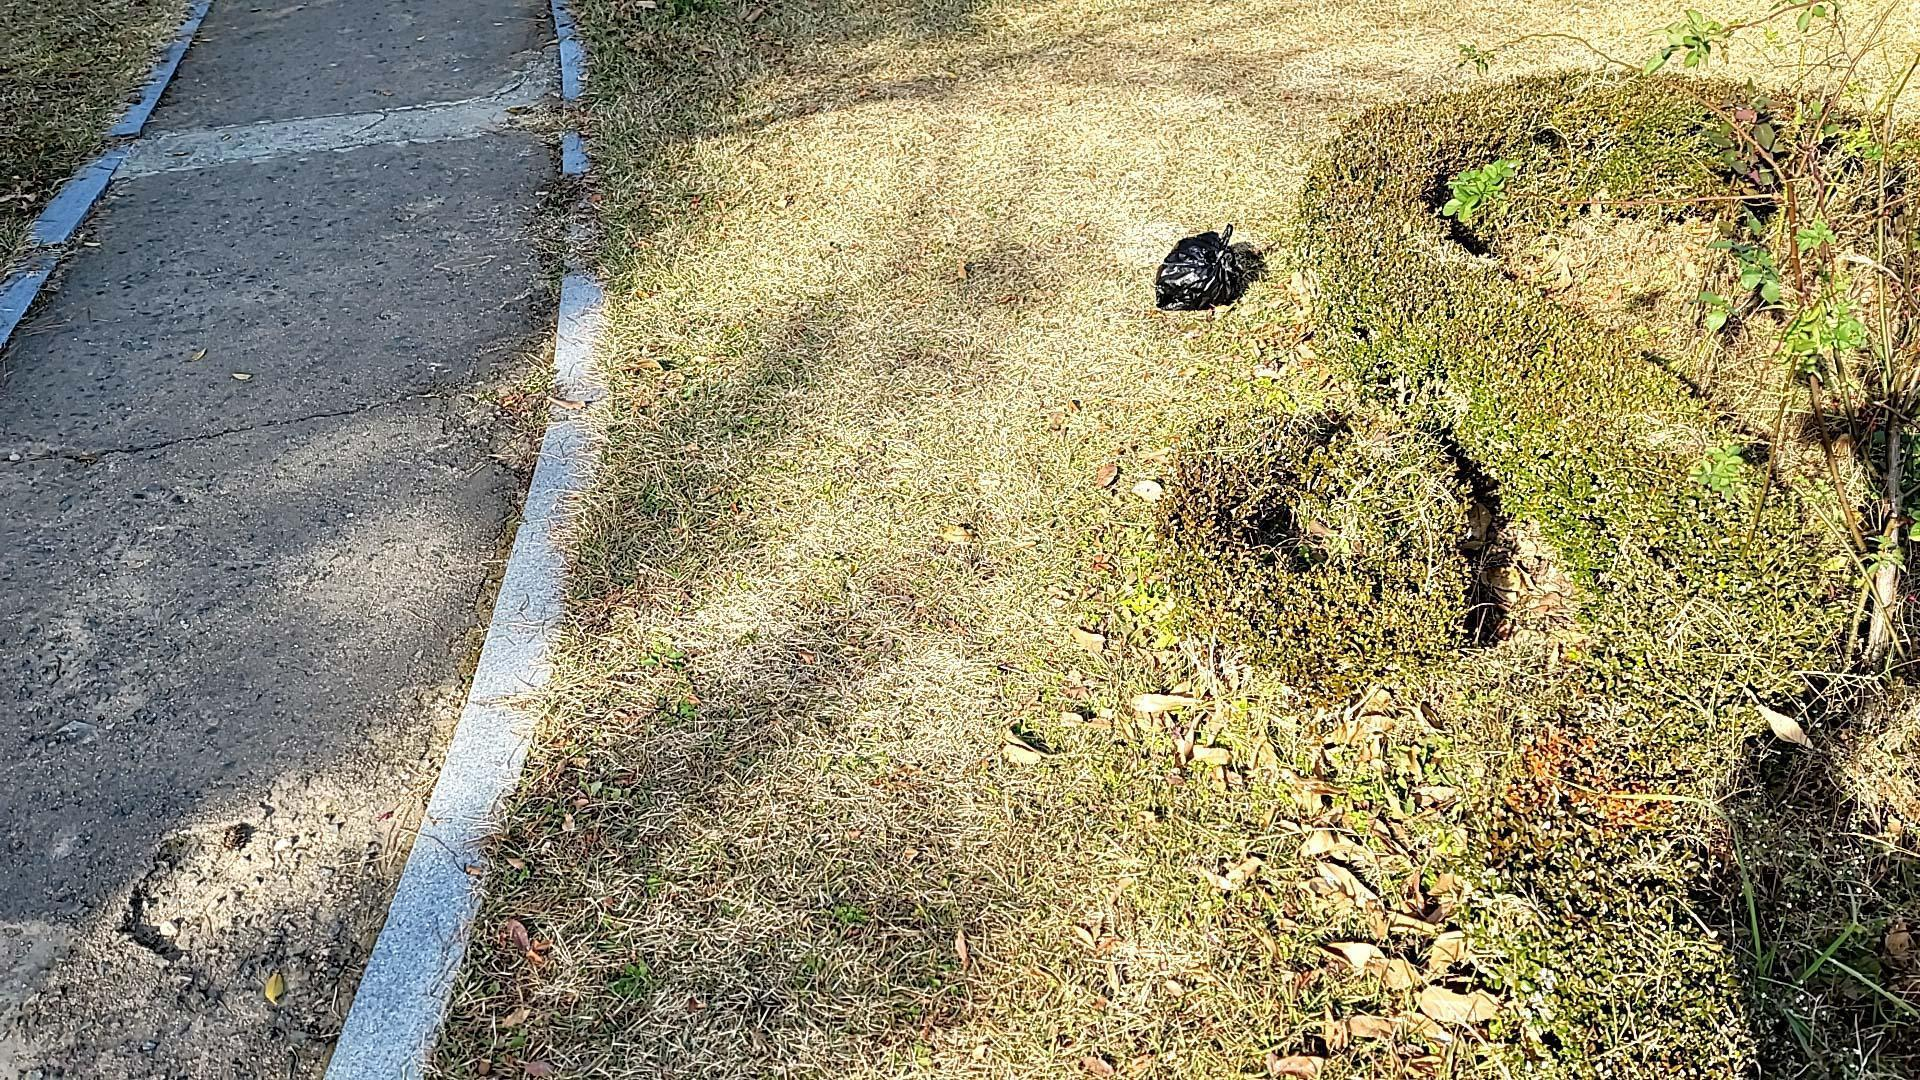black_bag: (1147, 222, 1251, 315)
